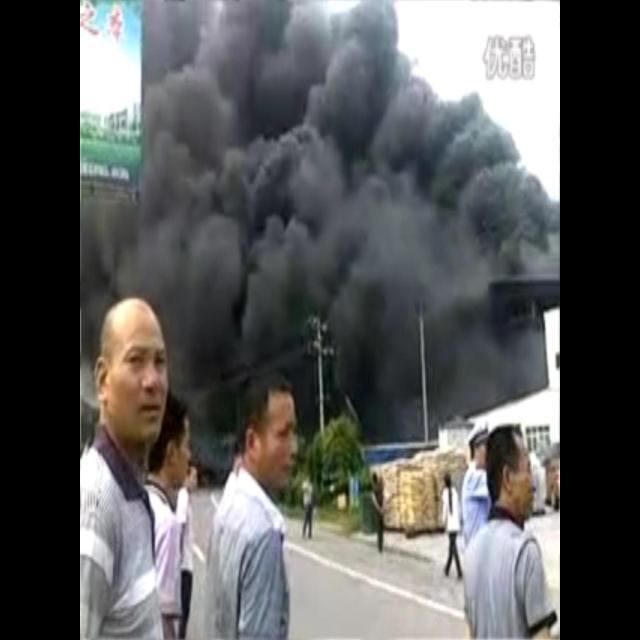Smoke: (80, 0, 560, 444)
